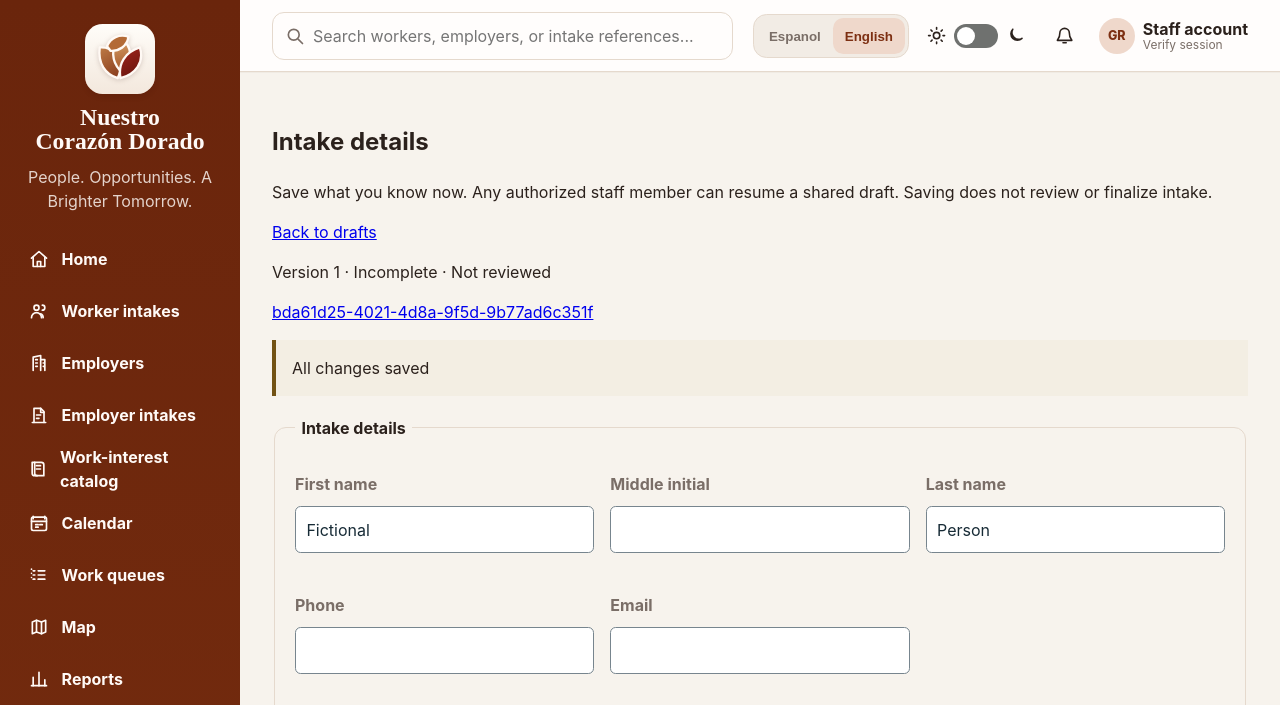
staff intake drafts › shows conflicts and requires reopening before a new save
Replace the text in the field labelled "First name" with "Conflict" at coordinates (445, 530), box [295, 506, 594, 553]
(page scrolled)
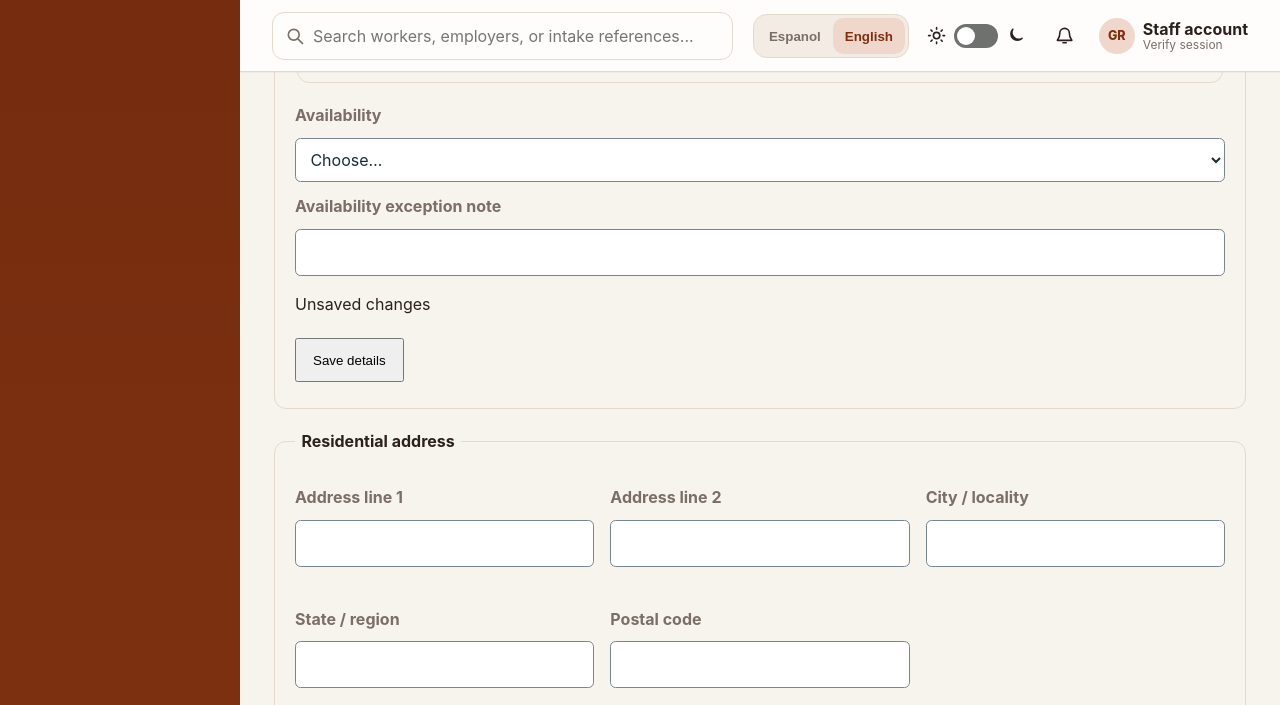
Click the button "Save details".
click(349, 360)  # box [295, 338, 404, 382]
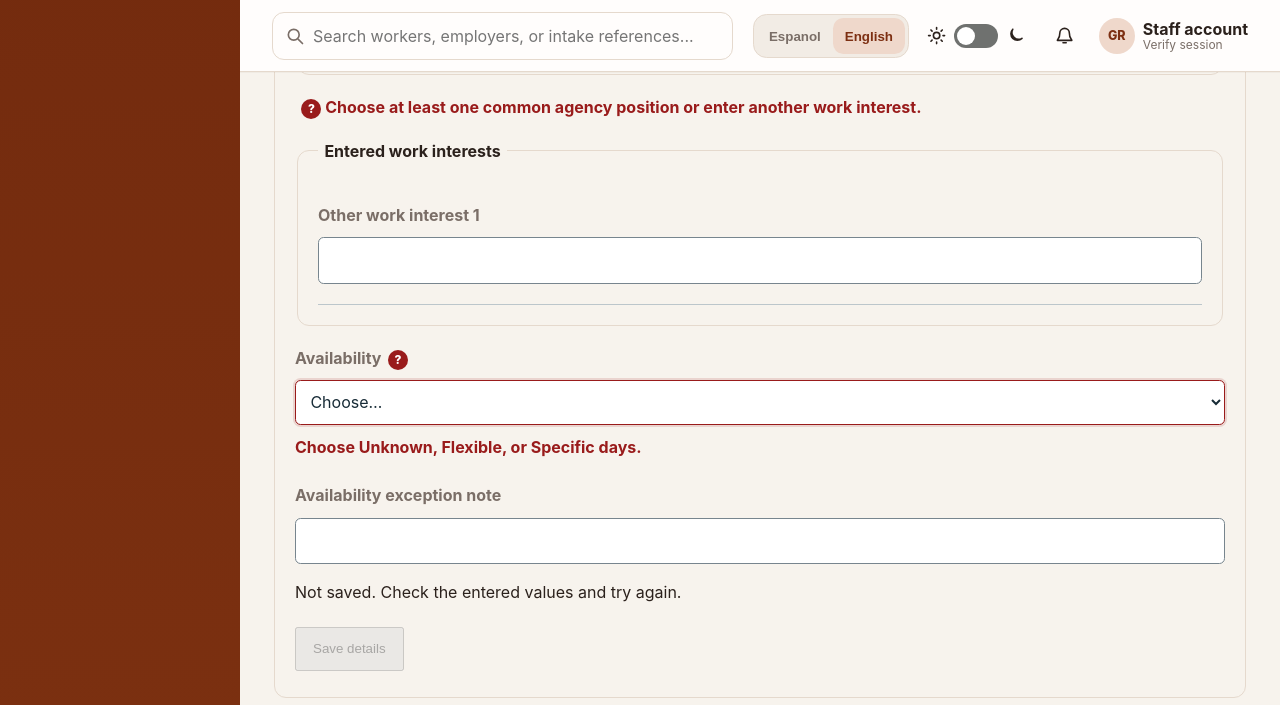
Check: the button "Save details" is disabled, box [295, 627, 404, 671]
